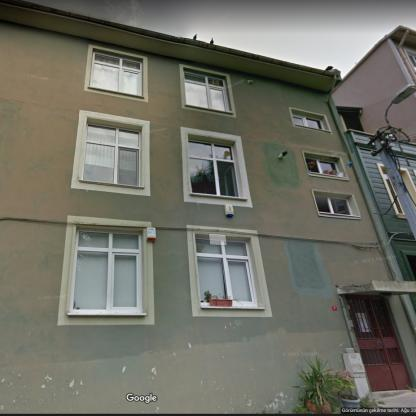door: (348, 298, 410, 390)
window: (70, 231, 139, 309), (195, 238, 253, 303), (82, 123, 140, 186), (189, 140, 239, 197), (90, 52, 140, 96), (184, 70, 228, 112), (315, 195, 351, 215), (293, 115, 324, 129), (319, 160, 341, 175), (408, 54, 416, 70)
